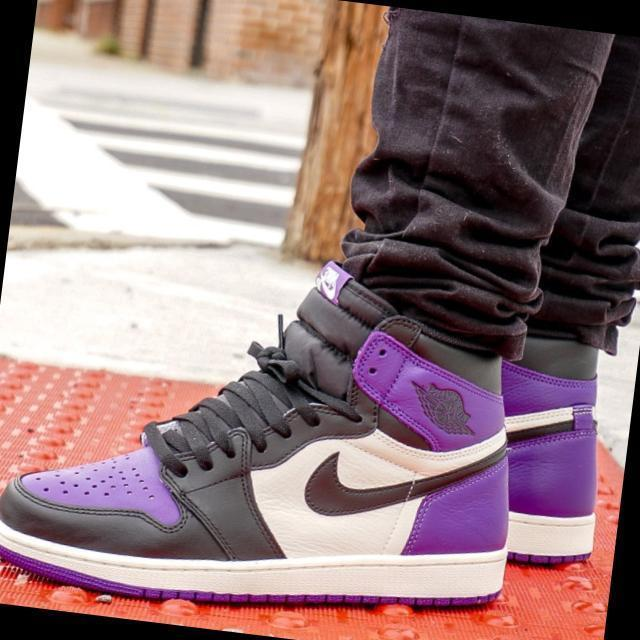nike original jordan 1: (0, 192, 560, 640)
